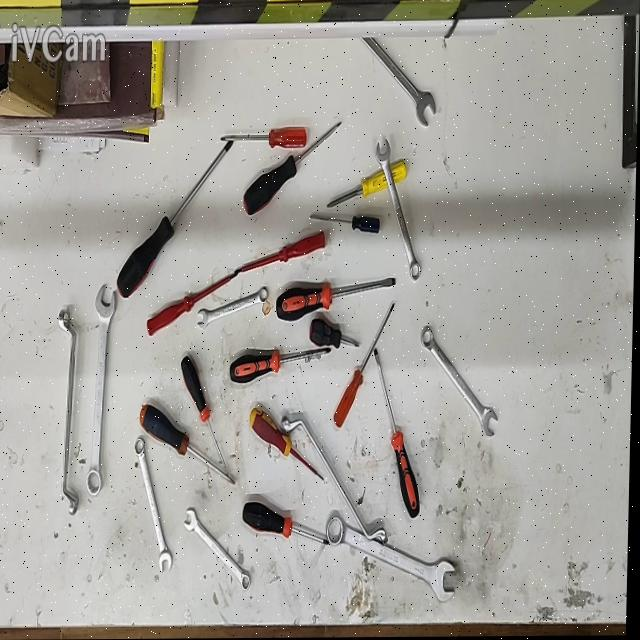Screwdriver: (119, 142, 234, 297), (245, 124, 342, 216), (141, 404, 238, 486), (375, 349, 422, 518), (338, 298, 390, 435), (149, 271, 240, 337), (251, 407, 327, 482), (182, 357, 229, 470), (277, 278, 396, 321), (244, 502, 333, 544), (326, 162, 407, 208), (231, 348, 333, 384), (239, 231, 327, 271), (221, 127, 308, 150), (312, 318, 361, 348), (310, 216, 381, 233)
